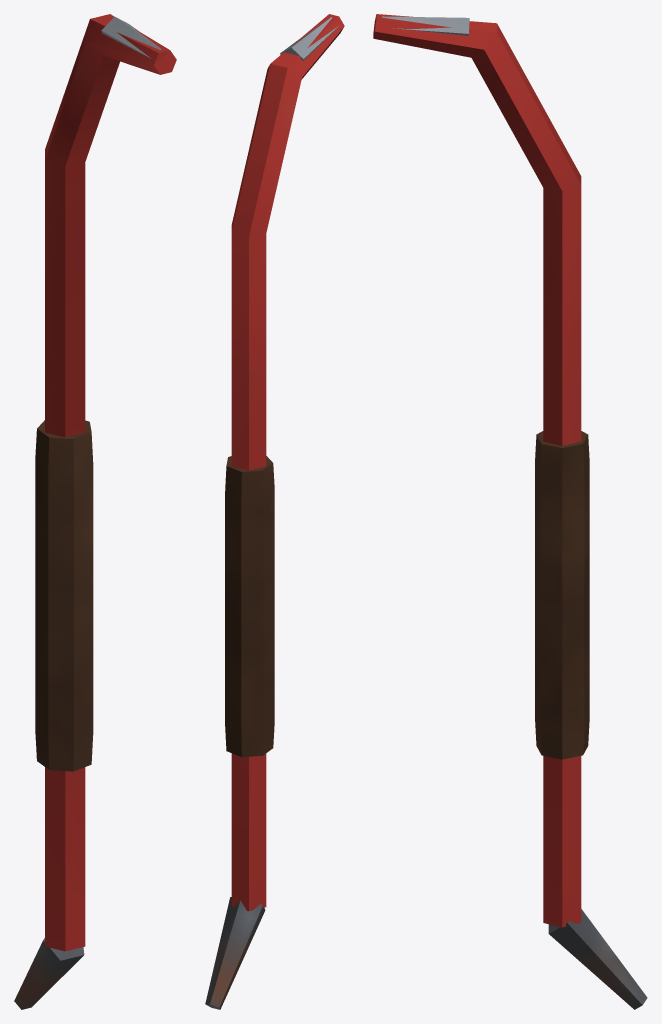
File: SM_Crowbar.fbx
3 views of the same model, side by side, from view 1: azimuth 30°, elevation 25°; view 2: azimuth 150°, elevation 25°; view 3: azimuth 270°, elevation 25° (orthographic). The views are drawn at different scales.
Visible parts, largest first — view 1: SM_Crowbar; view 2: SM_Crowbar; view 3: SM_Crowbar.
Part boxes in pixels (box(x1,y1,x2,y2)): SM_Crowbar: box(14, 14, 176, 1009); SM_Crowbar: box(205, 14, 344, 1009); SM_Crowbar: box(373, 14, 647, 1009).
Size of the model in its own units: 0.1711 by 3.5 by 0.8779.
Materials: 1 (1 with a texture image).
